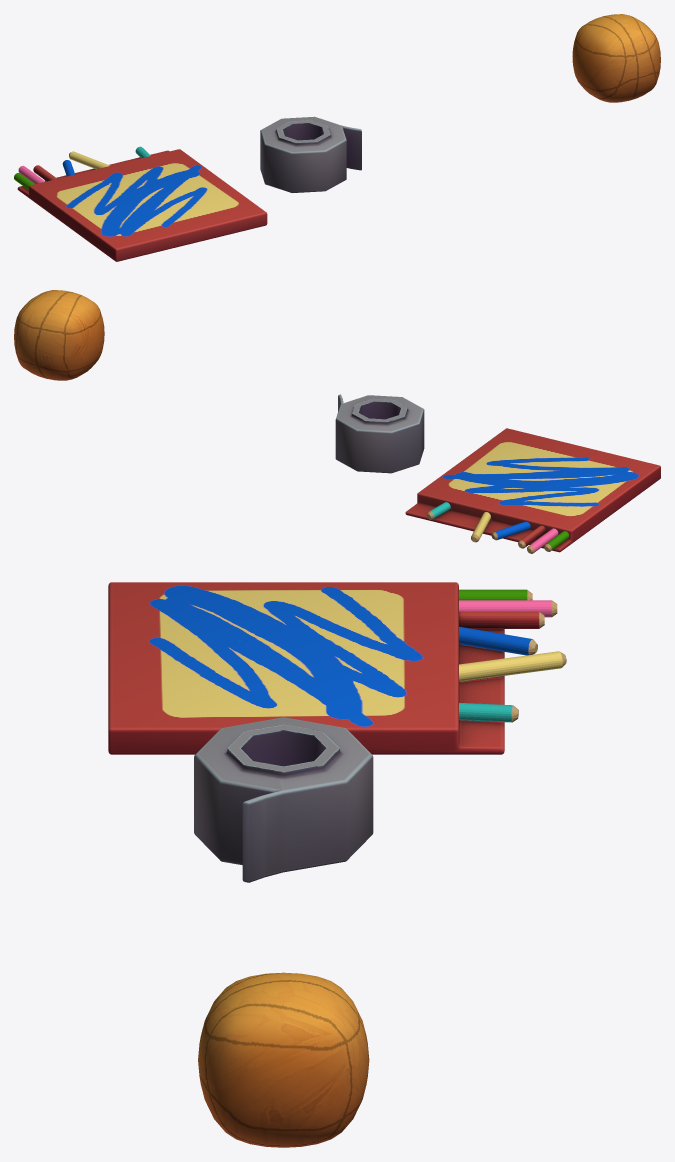
File: BolasLapisSilverTape_ATLAS.fbx
3 renders of one model, top to bottom at view 1: azimuth 30°, elevation 25°; view 2: azimuth 150°, elevation 25°; view 3: azimuth 270°, elevation 25°, orthographic. The views are drawn at different scales.
Parts seen in each view (by area): view 1: CaixaDeLapisDeCor, SilverTape, BolaVolei; view 2: CaixaDeLapisDeCor, BolaVolei, SilverTape; view 3: CaixaDeLapisDeCor, BolaVolei, SilverTape.
Part boxes in pixels (x1=…): CaixaDeLapisDeCor: x1=14, y1=146, x2=267, y2=261; SilverTape: x1=260, y1=116, x2=361, y2=192; BolaVolei: x1=572, y1=14, x2=660, y2=102; CaixaDeLapisDeCor: x1=405, y1=428, x2=660, y2=553; BolaVolei: x1=14, y1=290, x2=104, y2=380; SilverTape: x1=335, y1=394, x2=424, y2=473; CaixaDeLapisDeCor: x1=108, y1=582, x2=566, y2=754; BolaVolei: x1=198, y1=972, x2=369, y2=1147; SilverTape: x1=194, y1=717, x2=373, y2=882.
Size of the model in its own units: 151 by 20.42 by 51.54.
